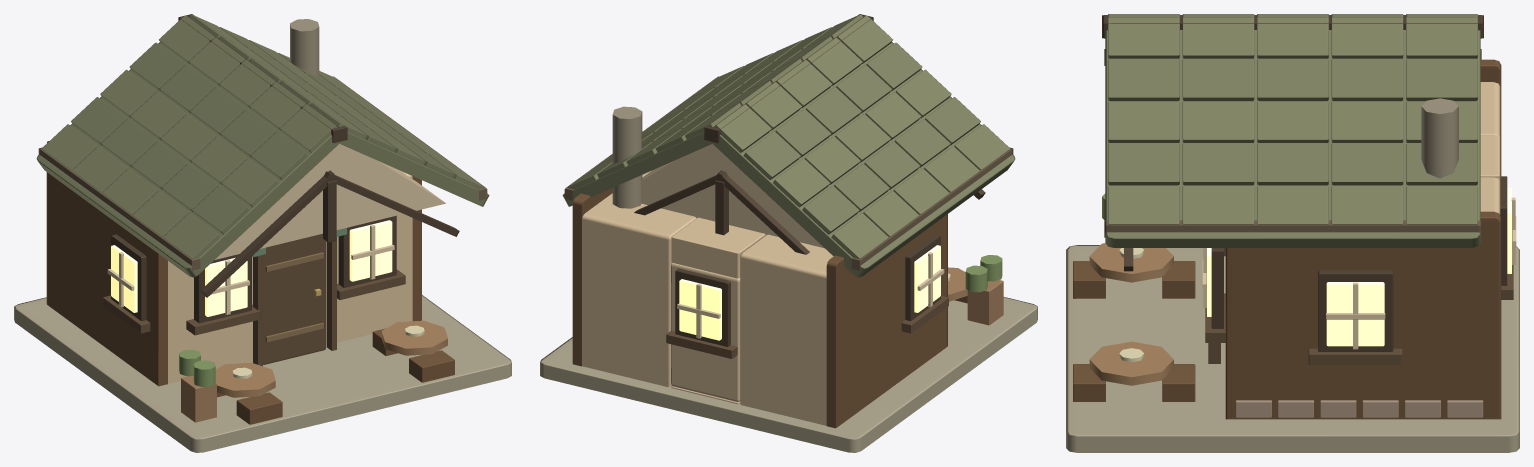
The model's file is restaurant-1.glb.
3 renders of one model, left to right at view 1: azimuth 30°, elevation 25°; view 2: azimuth 150°, elevation 25°; view 3: azimuth 270°, elevation 25°, orthographic. The views are drawn at different scales.
Parts seen in each view (by area): view 1: restaurant-1-0, door-hinge; view 2: restaurant-1-0; view 3: restaurant-1-0.
Boxes of the visible parts, x1,y1,x2,y2 form: restaurant-1-0: (14,14,511,452); door-hinge: (263,233,326,364); restaurant-1-0: (540,14,1037,452); restaurant-1-0: (1066,14,1519,452).
Bounding box in the file's own units: 2.9 × 2.41 × 2.9.
